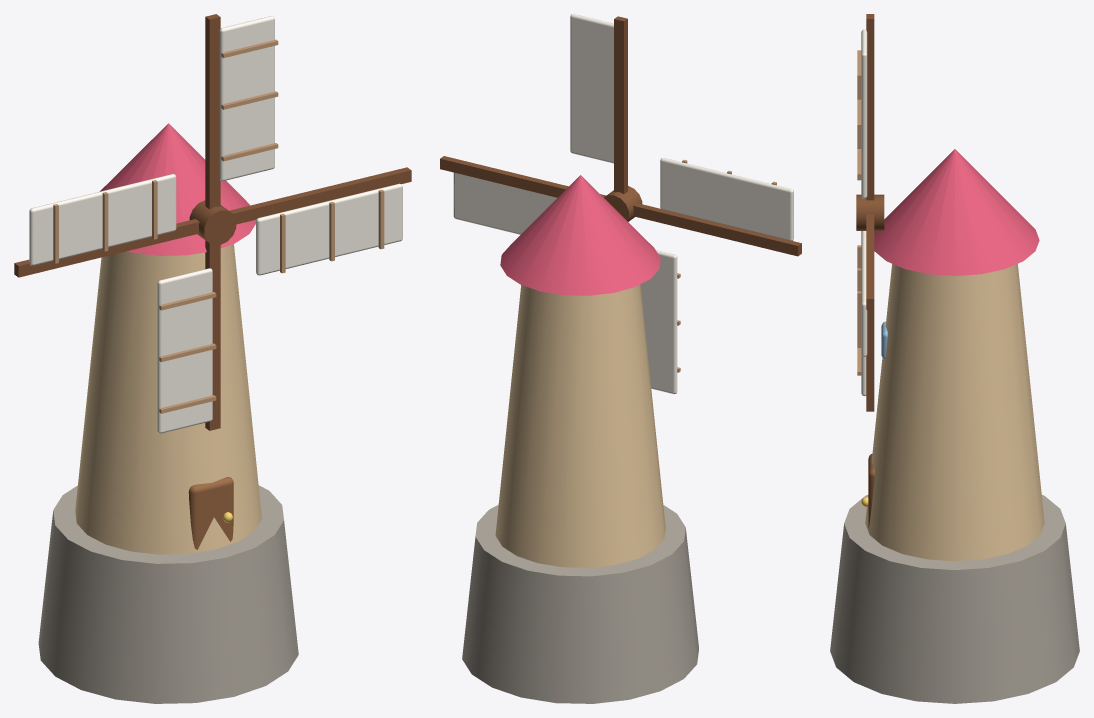
Rendered from windmill.glb.
3 views of the same model, side by side, from view 1: azimuth 30°, elevation 25°; view 2: azimuth 150°, elevation 25°; view 3: azimuth 270°, elevation 25° (orthographic). The views are drawn at different scales.
Bounding box in the file's own units: 2.15 × 3.47 × 1.24.
